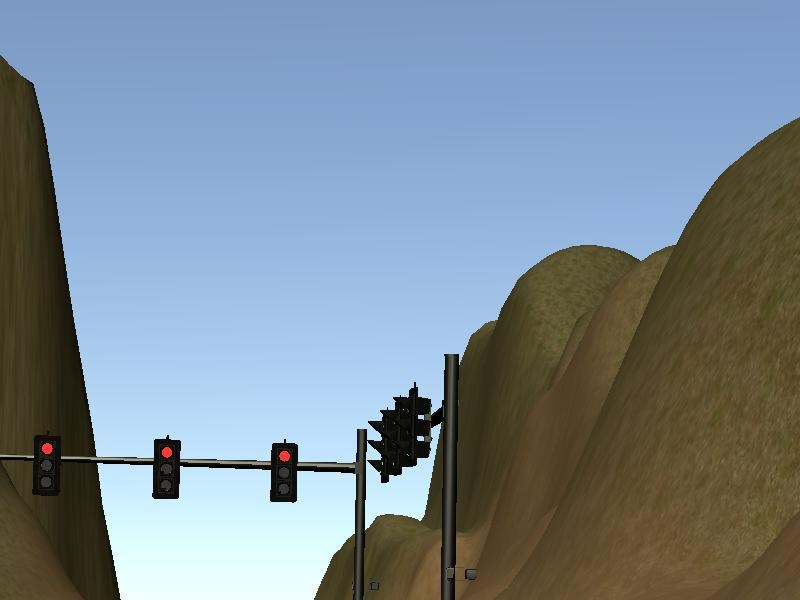red: (150, 433, 186, 503), (29, 432, 65, 499), (266, 436, 300, 505)
